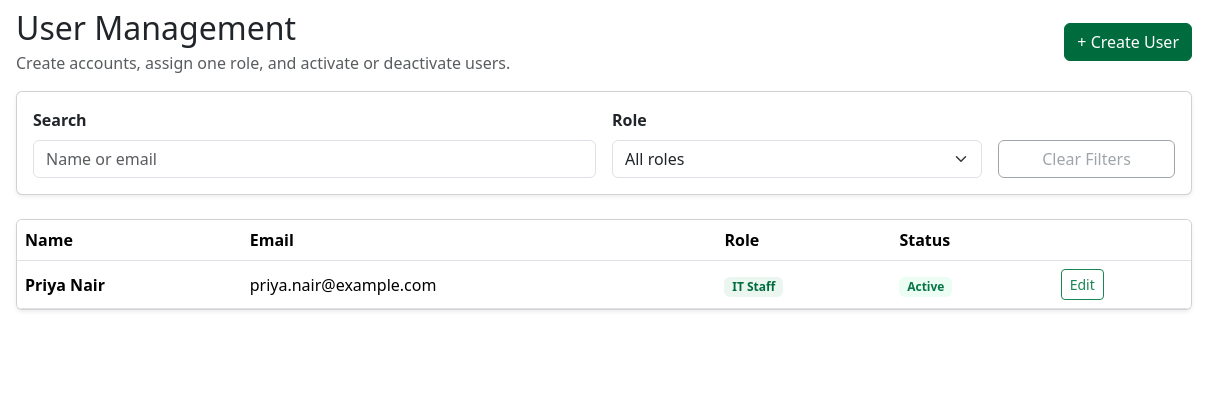
it: User list › shows no results with Clear Filters
Check: the table is shown, box [17,220,1191,309]
Select "Administrator" in the dropdown labelled "Role" at (797, 159), box [612,140,982,178]
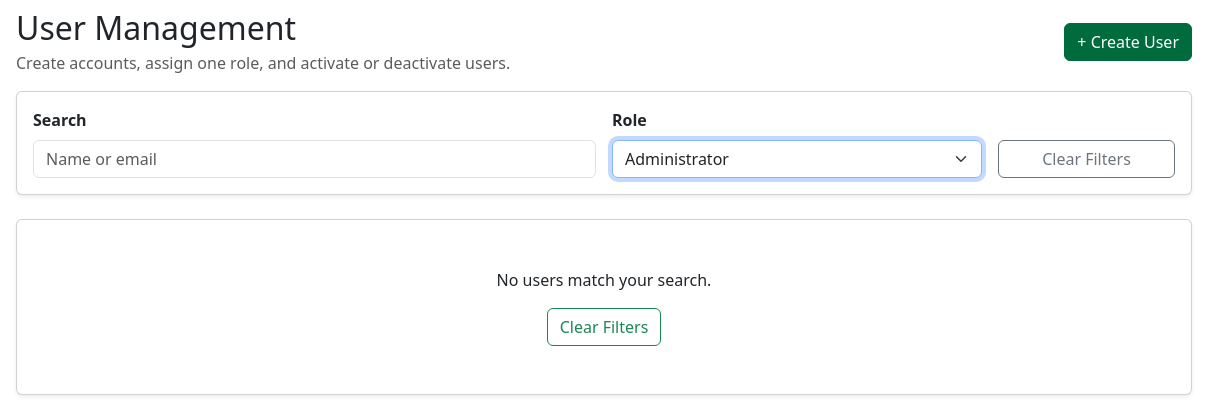
Check: the text "No users match your search." is shown, box [497,269,711,291]
Click the 1st button "Clear Filters" at (1086, 159), box [998,140,1175,178]
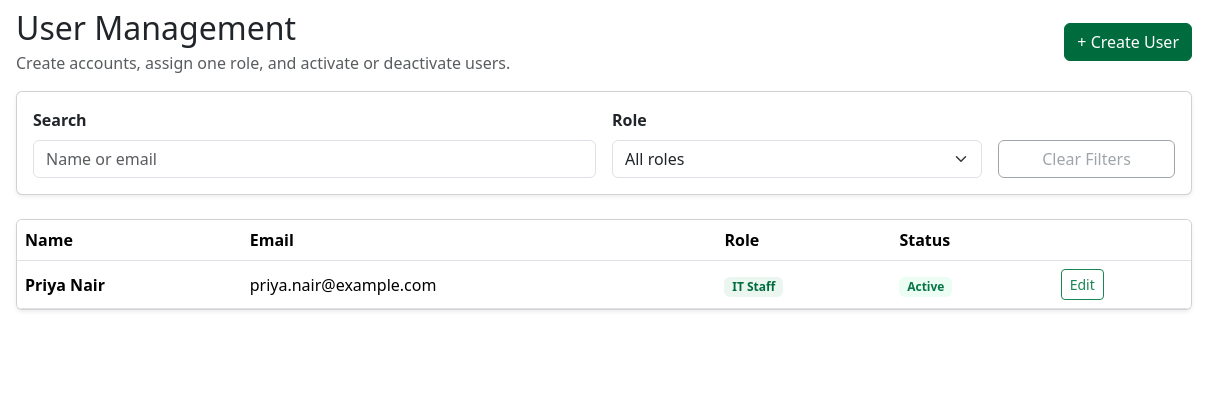
Check: the table is shown, box [17,220,1191,309]
